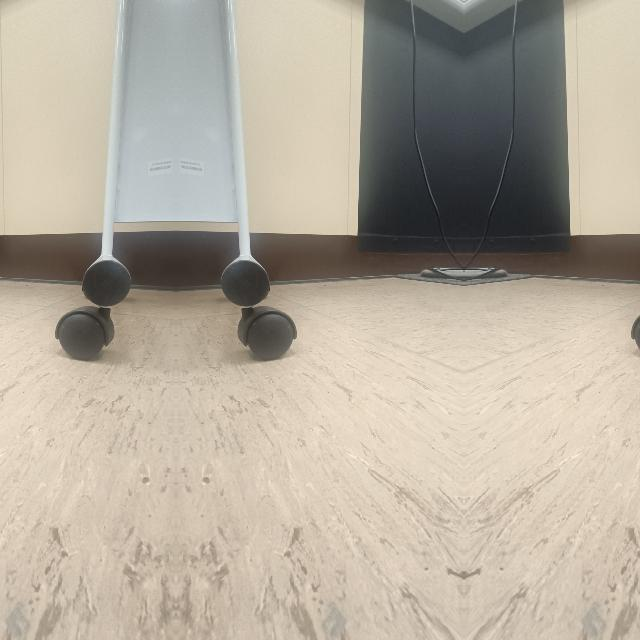obstacle: (222, 214, 298, 362), (52, 214, 128, 362), (628, 214, 640, 362)
